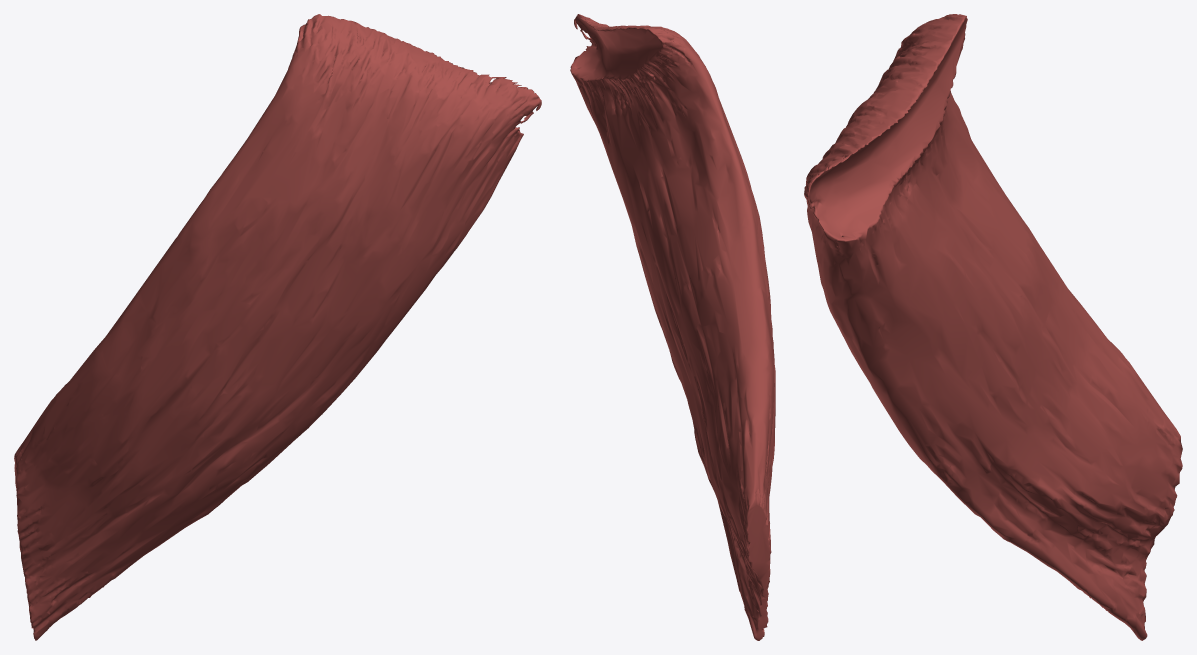
Rendered from FMA22450.glb.
The picture shows the model from 3 angles, left to right: view 1: azimuth 30°, elevation 25°; view 2: azimuth 150°, elevation 25°; view 3: azimuth 270°, elevation 25°; orthographic projection. The views are drawn at different scales.
Visible parts, largest first — view 1: FMA22450; view 2: FMA22450; view 3: FMA22450.
Boxes of the visible parts, <box> form: FMA22450: <box>14,14,541,640</box>; FMA22450: <box>570,14,775,640</box>; FMA22450: <box>804,14,1182,640</box>.
Size of the model in its own units: 0.0803 by 0.1272 by 0.0588.
